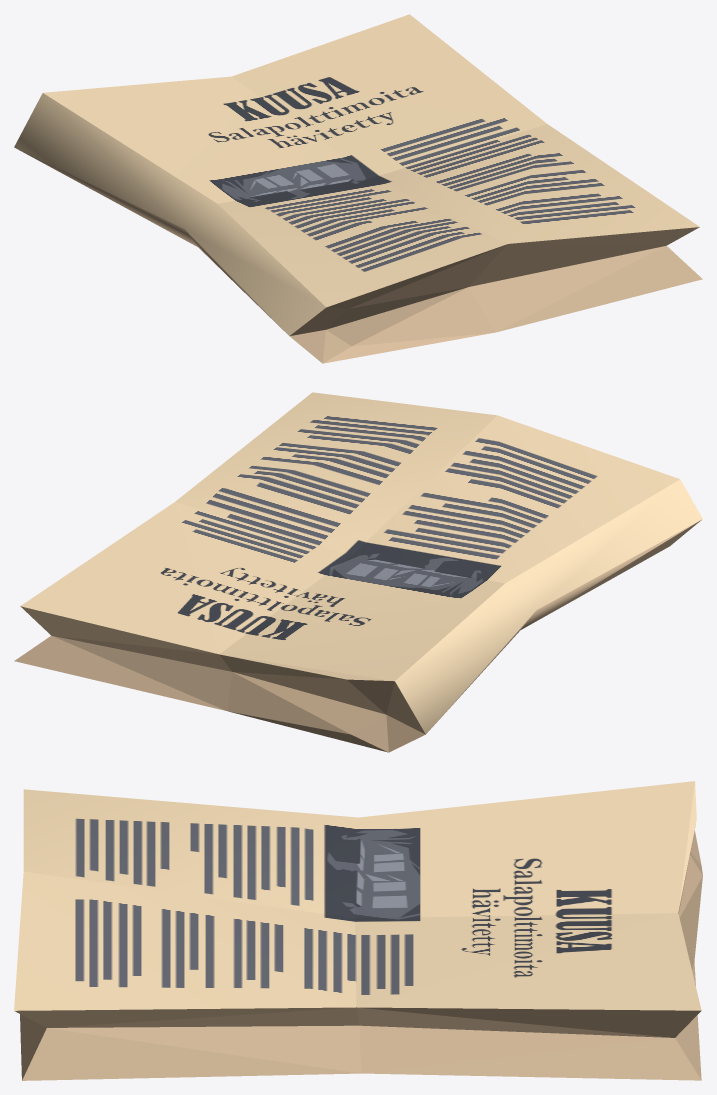
Rendered from newspaper_folded_kuusa.fbx.
The picture shows the model from 3 angles, top to bottom: view 1: azimuth 30°, elevation 25°; view 2: azimuth 150°, elevation 25°; view 3: azimuth 270°, elevation 25°; orthographic projection. The views are drawn at different scales.
Parts seen in each view (by area): view 1: newspaper_folded_kuusa; view 2: newspaper_folded_kuusa; view 3: newspaper_folded_kuusa.
Part boxes in pixels (<box>): newspaper_folded_kuusa: <box>14,14,702,363</box>; newspaper_folded_kuusa: <box>14,392,702,752</box>; newspaper_folded_kuusa: <box>14,781,702,1080</box>.
Bounding box in the file's own units: 35.69 × 7.01 × 44.37.
